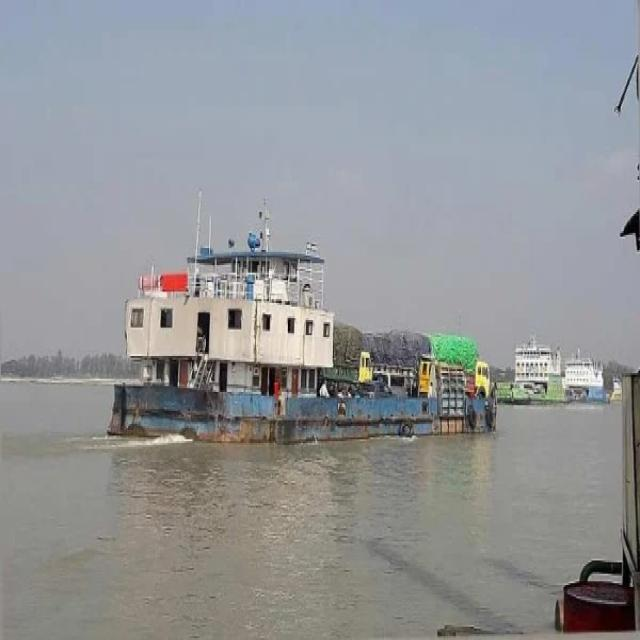cargoship: (75, 188, 503, 453)
